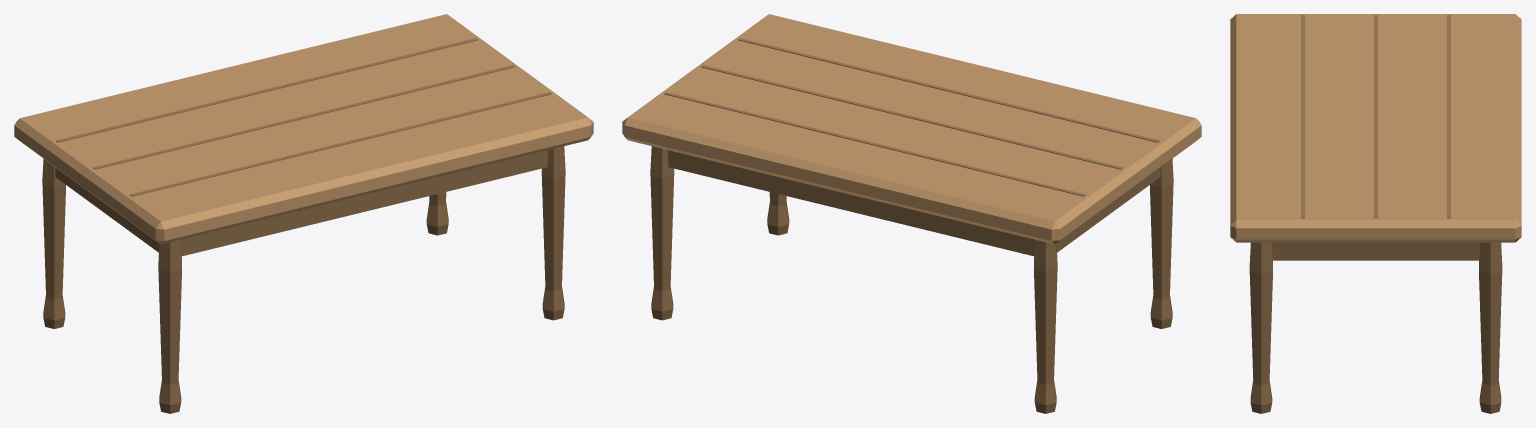
Rendered from table.glb.
3 views of the same model, side by side, from view 1: azimuth 30°, elevation 25°; view 2: azimuth 150°, elevation 25°; view 3: azimuth 270°, elevation 25° (orthographic).
Visible parts, largest first — view 1: table-m; view 2: table-m; view 3: table-m.
Boxes of the visible parts, <box> form: table-m: <box>14,14,593,413</box>; table-m: <box>622,14,1201,413</box>; table-m: <box>1230,14,1521,413</box>.
Size of the model in its own units: 2.4 by 1.06 by 1.4.
